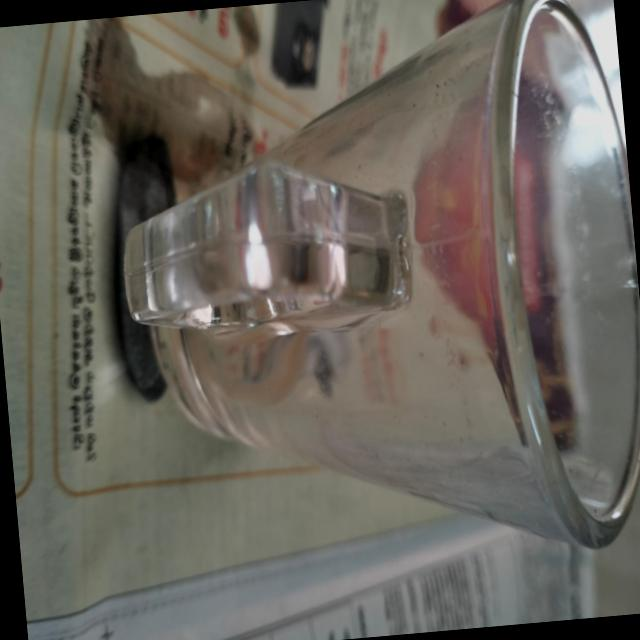glass-VX4N: (99, 0, 640, 586)
